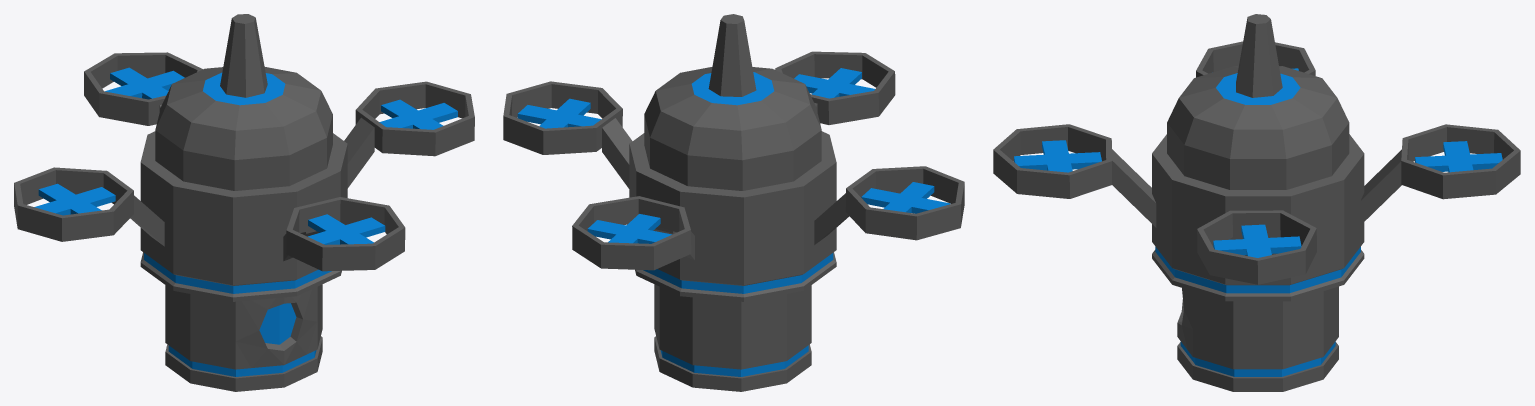
Rendered from flying_enemies_2.fbx.
3 renders of one model, left to right at view 1: azimuth 30°, elevation 25°; view 2: azimuth 150°, elevation 25°; view 3: azimuth 270°, elevation 25°, orthographic.
Parts seen in each view (by area): view 1: flying_enemies_2; view 2: flying_enemies_2; view 3: flying_enemies_2.
Boxes of the visible parts, x1=… form: flying_enemies_2: x1=14, y1=14, x2=474, y2=391; flying_enemies_2: x1=503, y1=14, x2=964, y2=391; flying_enemies_2: x1=993, y1=14, x2=1520, y2=391.
Size of the model in its own units: 335 by 239 by 336.
